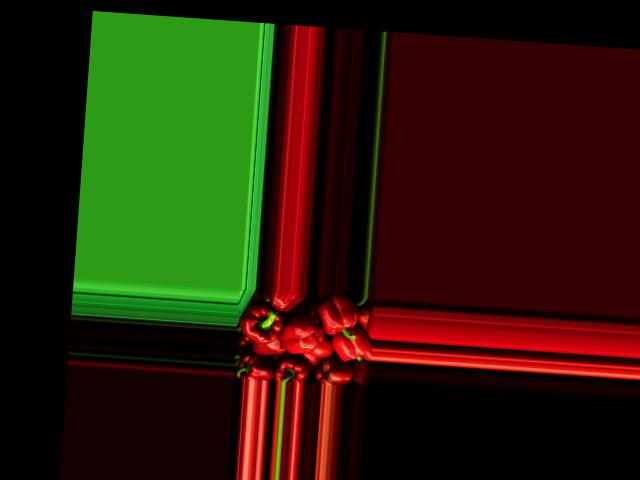bell_pepper: (235, 352, 273, 380)
